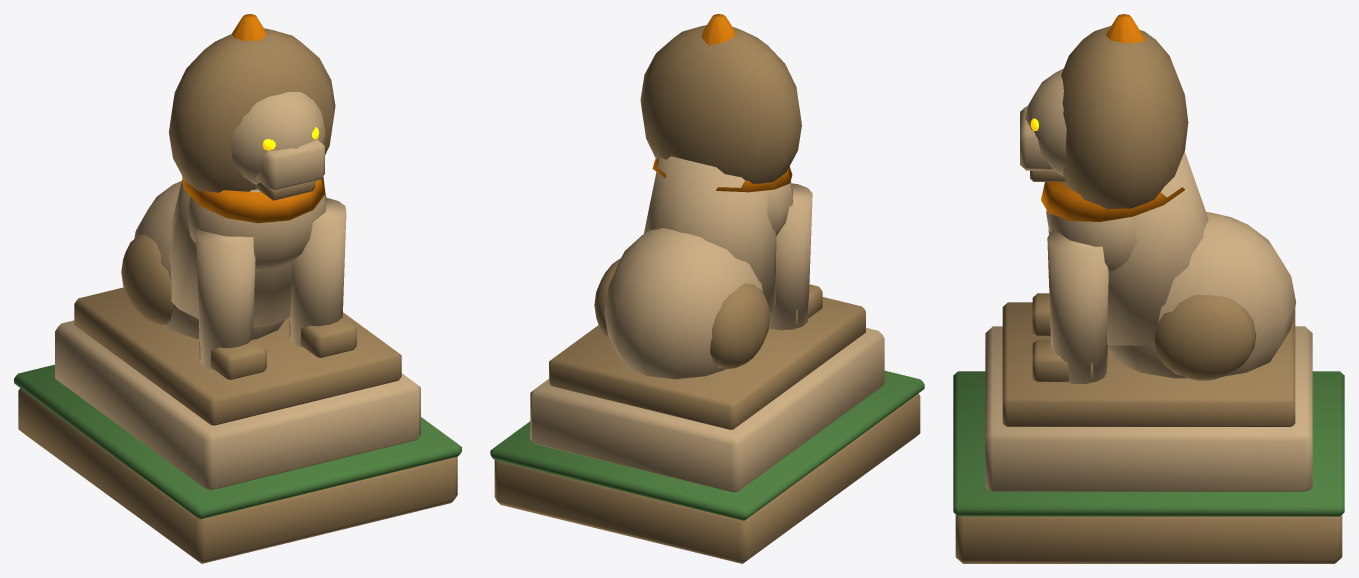
File: khmer_simha_guardian.glb
The picture shows the model from 3 angles, left to right: view 1: azimuth 30°, elevation 25°; view 2: azimuth 150°, elevation 25°; view 3: azimuth 270°, elevation 25°; orthographic projection. The views are drawn at different scales.
Visible parts, largest first — view 1: KhmerSimhaGuardian; view 2: KhmerSimhaGuardian; view 3: KhmerSimhaGuardian.
Part boxes in pixels (x1,y1,x2,y2): KhmerSimhaGuardian: (14, 14, 461, 563); KhmerSimhaGuardian: (490, 14, 924, 563); KhmerSimhaGuardian: (953, 14, 1344, 563).
Size of the model in its own units: 1.3 by 2.15 by 1.58.
